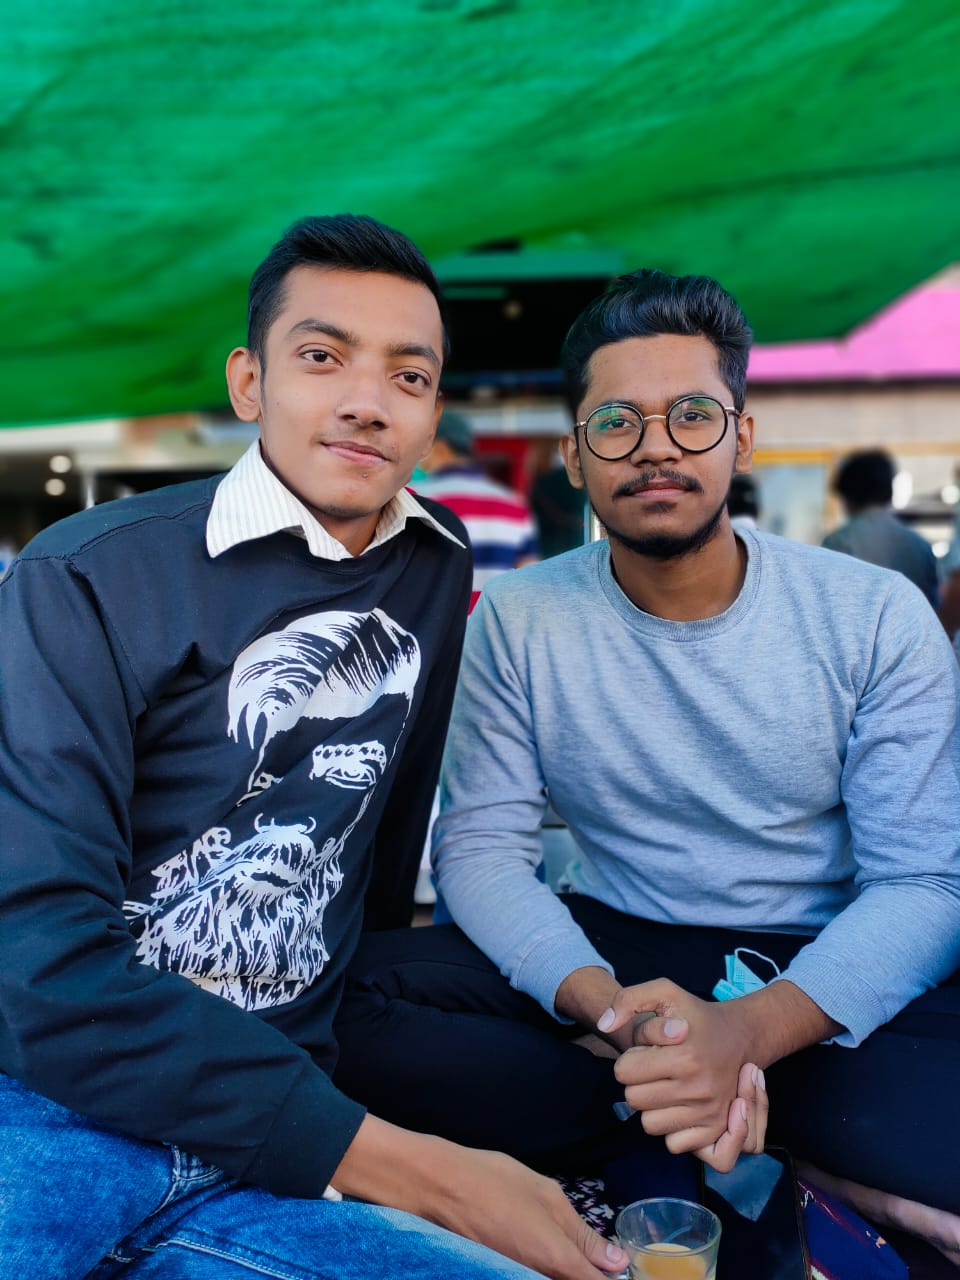NoMask: (275, 310, 442, 514), (593, 388, 723, 553)
